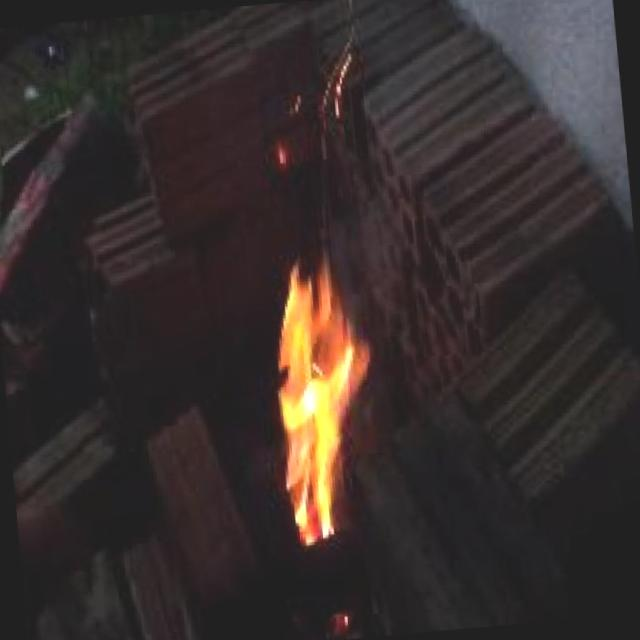fire: (203, 144, 432, 581)
